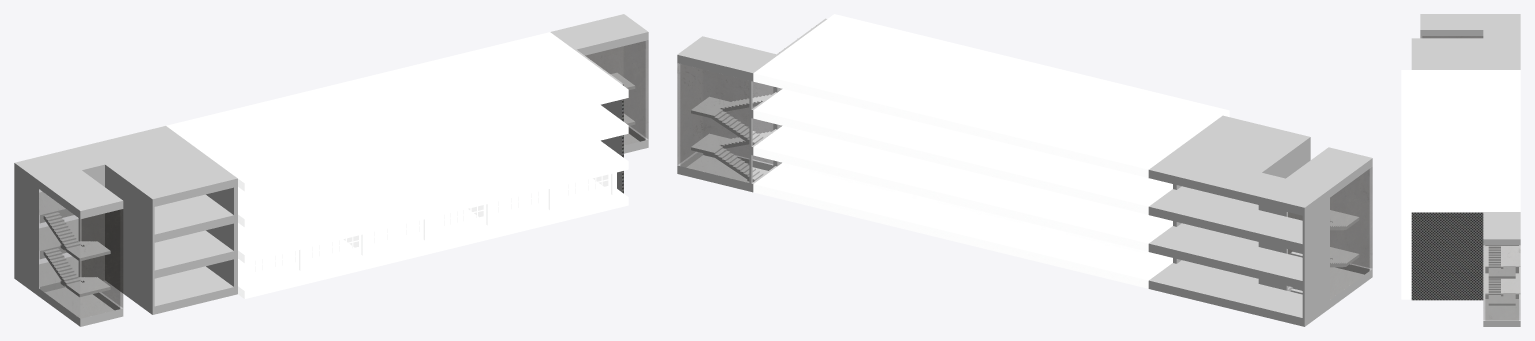
Rendered from BigLab-transformed.glb.
The picture shows the model from 3 angles, left to right: view 1: azimuth 30°, elevation 25°; view 2: azimuth 150°, elevation 25°; view 3: azimuth 270°, elevation 25°; orthographic projection. The views are drawn at different scales.
Visible parts, largest first — view 1: RightBuilding; view 2: RightBuilding; view 3: RightBuilding.
Boxes of the visible parts, x1,y1,x2,y2 form: RightBuilding: (14,14,648,326); RightBuilding: (677,14,1372,326); RightBuilding: (1401,14,1520,326).
Bounding box in the file's own units: 78.25 × 14.2 × 17.5.
Materials: 5 (4 with a texture image).
